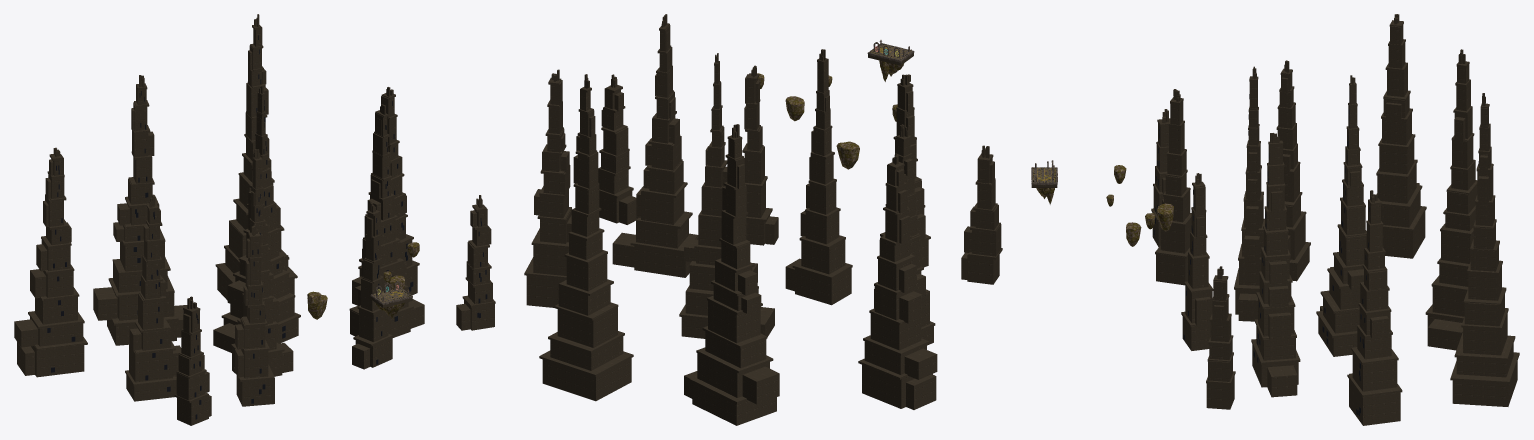
The model's file is lobby.glb.
The picture shows the model from 3 angles, left to right: view 1: azimuth 30°, elevation 25°; view 2: azimuth 150°, elevation 25°; view 3: azimuth 270°, elevation 25°; orthographic projection. The views are drawn at different scales.
Visible parts, largest first — view 1: Backdrop, Stone; view 2: Backdrop, Stone; view 3: Backdrop, Stone.
Boxes of the visible parts, x1=… form: Backdrop: x1=14, y1=14, x2=495, y2=425; Stone: x1=370, y1=281, x2=412, y2=304; Backdrop: x1=524, y1=14, x2=1002, y2=425; Stone: x1=867, y1=40, x2=914, y2=62; Backdrop: x1=1031, y1=14, x2=1519, y2=425; Stone: x1=1031, y1=160, x2=1057, y2=185.
Size of the model in its own units: 218 by 150 by 222.
15 materials, 6 textured.
